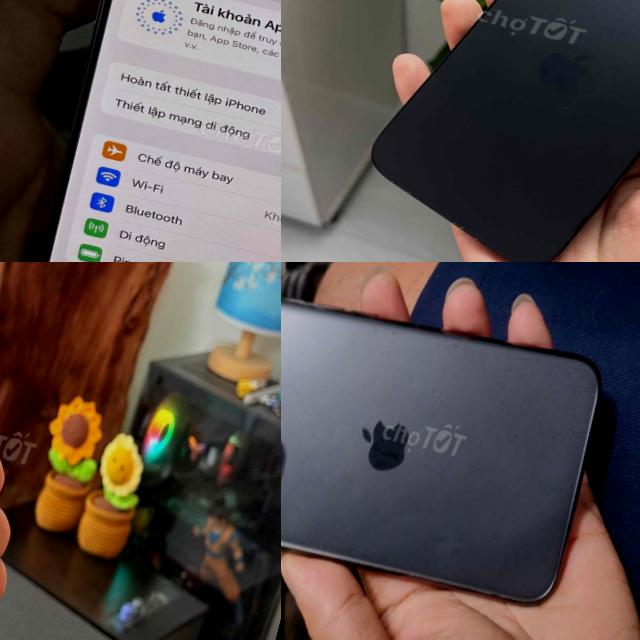gen_11: (281, 272, 622, 623)
gen_12_13: (0, 262, 98, 640)
gen_16: (372, 0, 640, 262), (40, 0, 281, 262)
